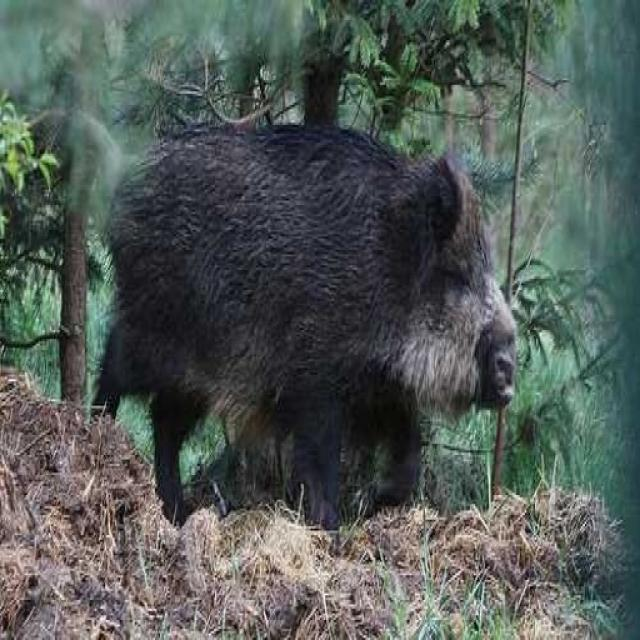pig: (98, 91, 531, 577)
